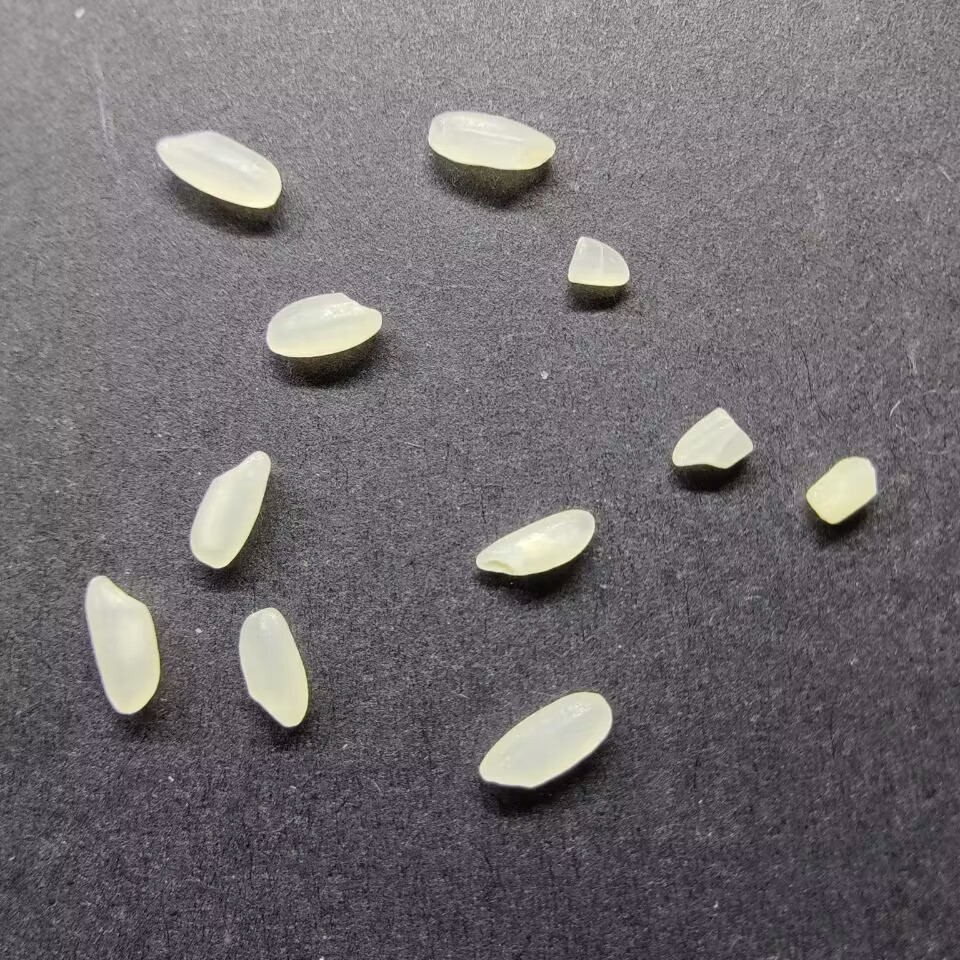broken: (670, 405, 754, 471), (803, 455, 878, 527), (565, 233, 630, 288)
rice: (476, 690, 613, 791), (83, 574, 162, 716), (186, 449, 271, 571), (155, 130, 283, 209), (235, 606, 310, 729), (475, 506, 595, 577), (263, 291, 383, 358), (426, 110, 556, 170)
